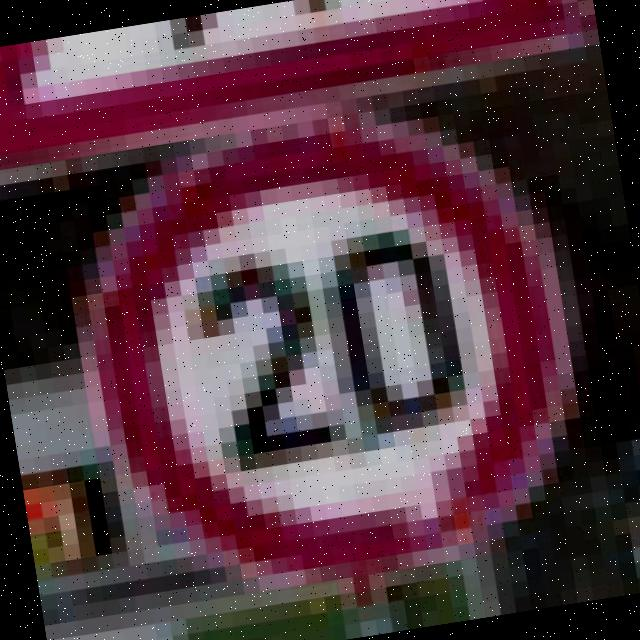Ograniczenie predkosci do 20: (54, 78, 607, 616)
